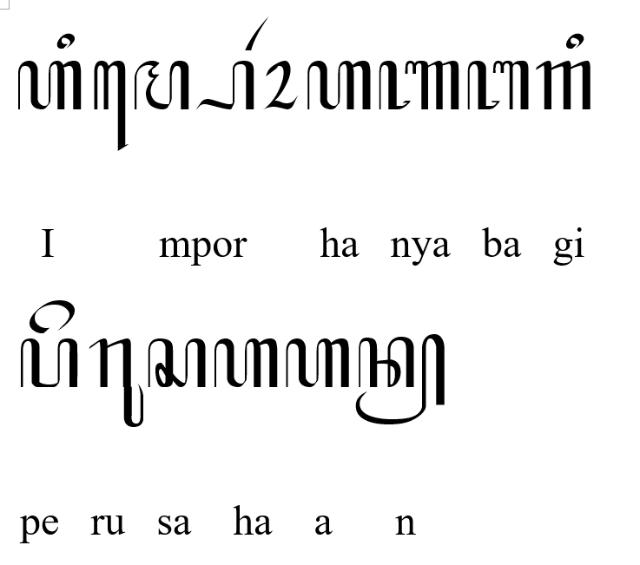-n: (354, 333, 446, 425)
_p: (196, 59, 254, 111)
_r1: (244, 15, 270, 51)
b: (466, 60, 530, 110)
e: (28, 298, 76, 334)
e1: (92, 59, 128, 151)
g: (536, 60, 592, 110)
h: (306, 58, 372, 110), (284, 337, 350, 388), (214, 337, 278, 389), (18, 60, 80, 110)
i: (57, 31, 75, 49), (566, 32, 584, 50)
m: (134, 60, 190, 110)
ny1: (378, 59, 460, 111)
o: (262, 58, 298, 110)
p: (20, 337, 78, 388)
ru: (88, 338, 144, 428)
s: (147, 338, 207, 388)
